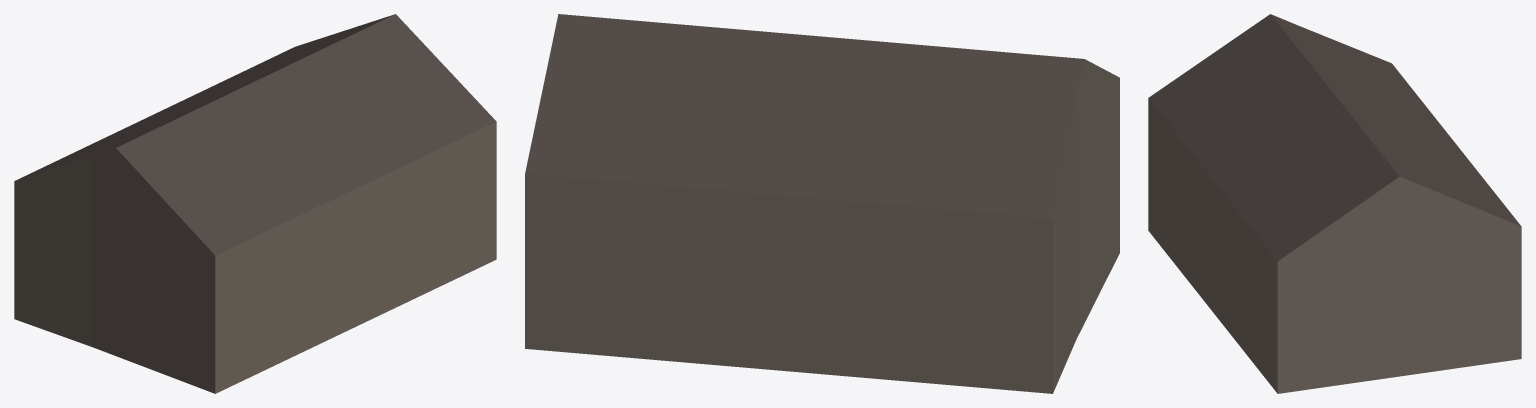
The picture shows the model from 3 angles, left to right: view 1: azimuth 30°, elevation 25°; view 2: azimuth 150°, elevation 25°; view 3: azimuth 270°, elevation 25°; orthographic projection. The views are drawn at different scales.
Visible parts, largest first — view 1: HP-w1198840843; view 2: HP-w1198840843; view 3: HP-w1198840843.
Part boxes in pixels (bbox=[...]): HP-w1198840843: bbox=[14, 14, 496, 393]; HP-w1198840843: bbox=[525, 14, 1119, 393]; HP-w1198840843: bbox=[1148, 14, 1521, 393].
Bounding box in the file's own units: 19.24 × 9.05 × 15.32.
